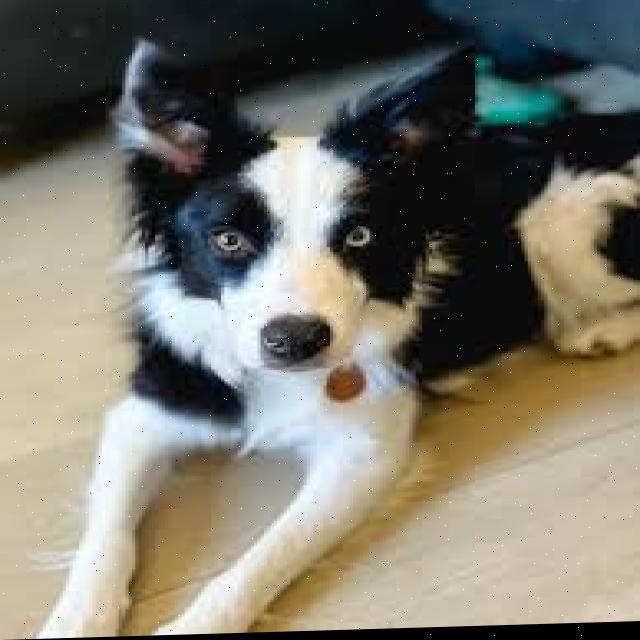BORDER_COLLIE: (0, 27, 640, 640)
